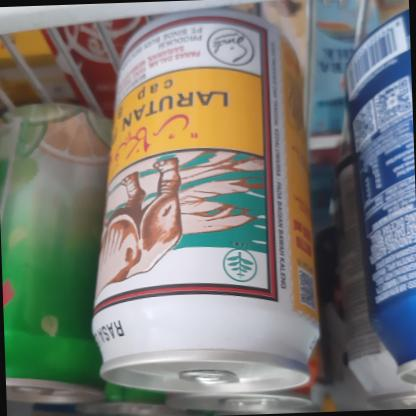alumunium_can: (88, 2, 327, 416), (152, 88, 160, 113)
